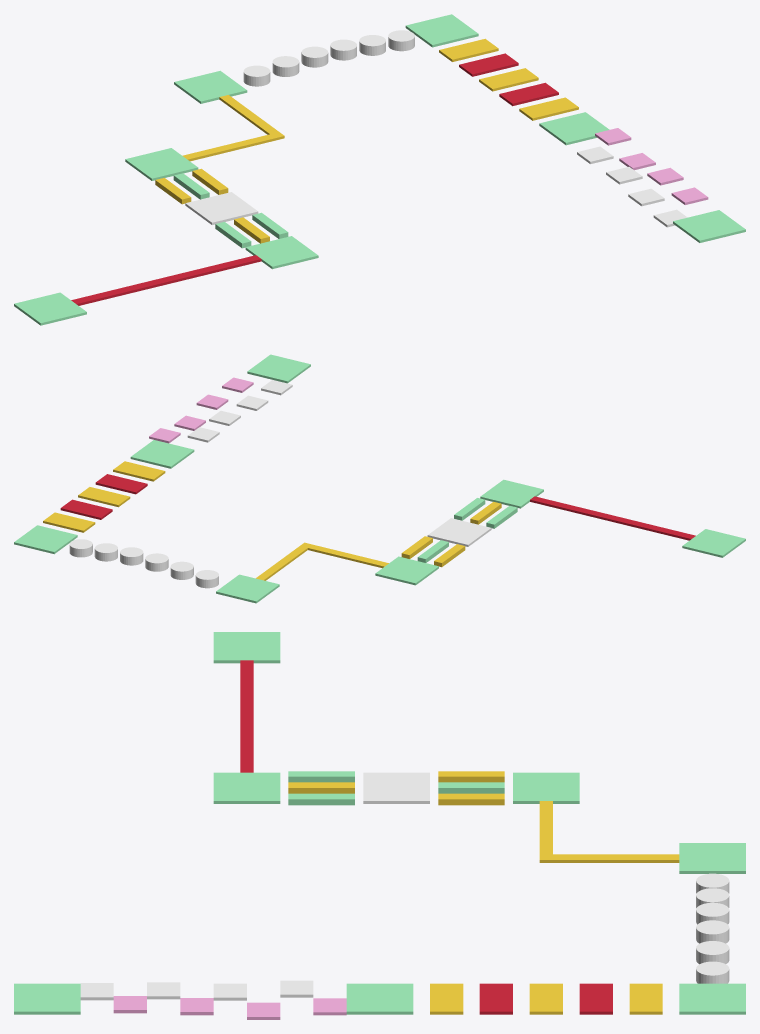
The model's file is map.glb.
3 renders of one model, top to bottom at view 1: azimuth 30°, elevation 25°; view 2: azimuth 150°, elevation 25°; view 3: azimuth 270°, elevation 25°, orthographic. The views are drawn at different scales.
Visible parts, largest first — view 1: box_6, checkpoint_2, checkpoint_6, start, checkpoint_4, box_54, checkpoint_5, checkpoint_3, checkpoint_1, box_42, box_21, box_22 (+9 smaller); view 2: box_6, checkpoint_3, checkpoint_2, checkpoint_4, checkpoint_6, checkpoint_1, start, box_54, checkpoint_5, box_25, box_21, box_22 (+4 smaller); view 3: checkpoint_1, checkpoint_5, start, checkpoint_2, box_54, checkpoint_6, checkpoint_4, checkpoint_3, box_6, box_41, box_21, box_22 (+13 smaller).
Part boxes in pixels (x1,y1,x2,y2): box_6: (71,255,261,305); checkpoint_2: (405,14,478,47); checkpoint_6: (14,292,86,325); start: (673,210,745,242); checkpoint_4: (125,148,198,180); box_54: (185,192,258,224); checkpoint_5: (245,236,318,269); checkpoint_3: (174,70,247,103); checkpoint_1: (539,112,609,145); box_42: (182,132,284,161); box_21: (519,97,578,120); box_22: (499,82,558,106); box_6: (530,496,695,540); checkpoint_3: (216,574,279,603); checkpoint_2: (14,525,77,554); checkpoint_4: (375,556,438,585); checkpoint_6: (682,529,745,557); checkpoint_1: (130,440,194,468); start: (247,354,310,383); box_54: (427,518,491,546); checkpoint_5: (480,479,543,508); box_25: (43,512,95,532); box_21: (113,461,165,481); box_22: (95,474,147,494); checkpoint_1: (346,983,413,1014); checkpoint_5: (213,772,280,803); start: (14,983,80,1014); checkpoint_2: (679,983,745,1014); box_54: (363,772,429,803); checkpoint_6: (213,632,280,663); checkpoint_4: (513,772,579,803); checkpoint_3: (679,843,745,873); box_6: (240,660,253,772); box_41: (553,854,679,862); box_21: (430,983,463,1014); box_22: (479,983,512,1014).
Bounding box in the file's own units: 27.25 × 0.6 × 22.
